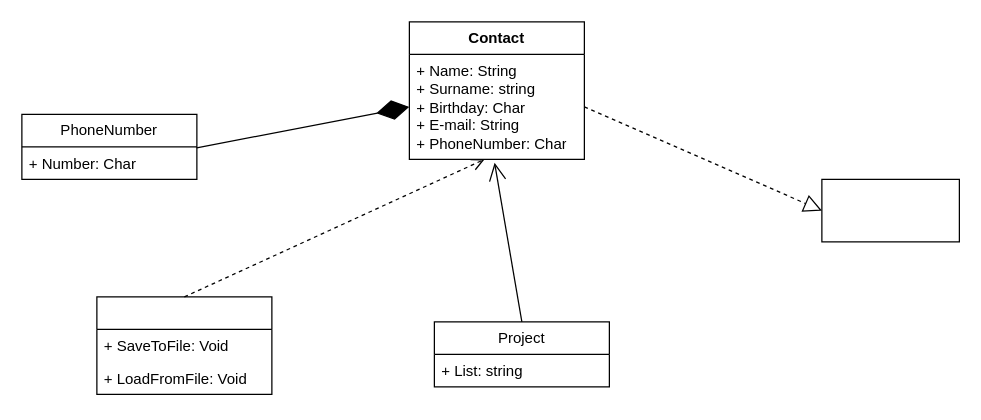
This 981x420 diagram has some shape labels left out. The box of each missing label's shape, as (x1, y1, x2, y2) in pixels:
ProjectManager: (96, 296, 272, 394)
«interface» Icloneable: (821, 178, 959, 242)
